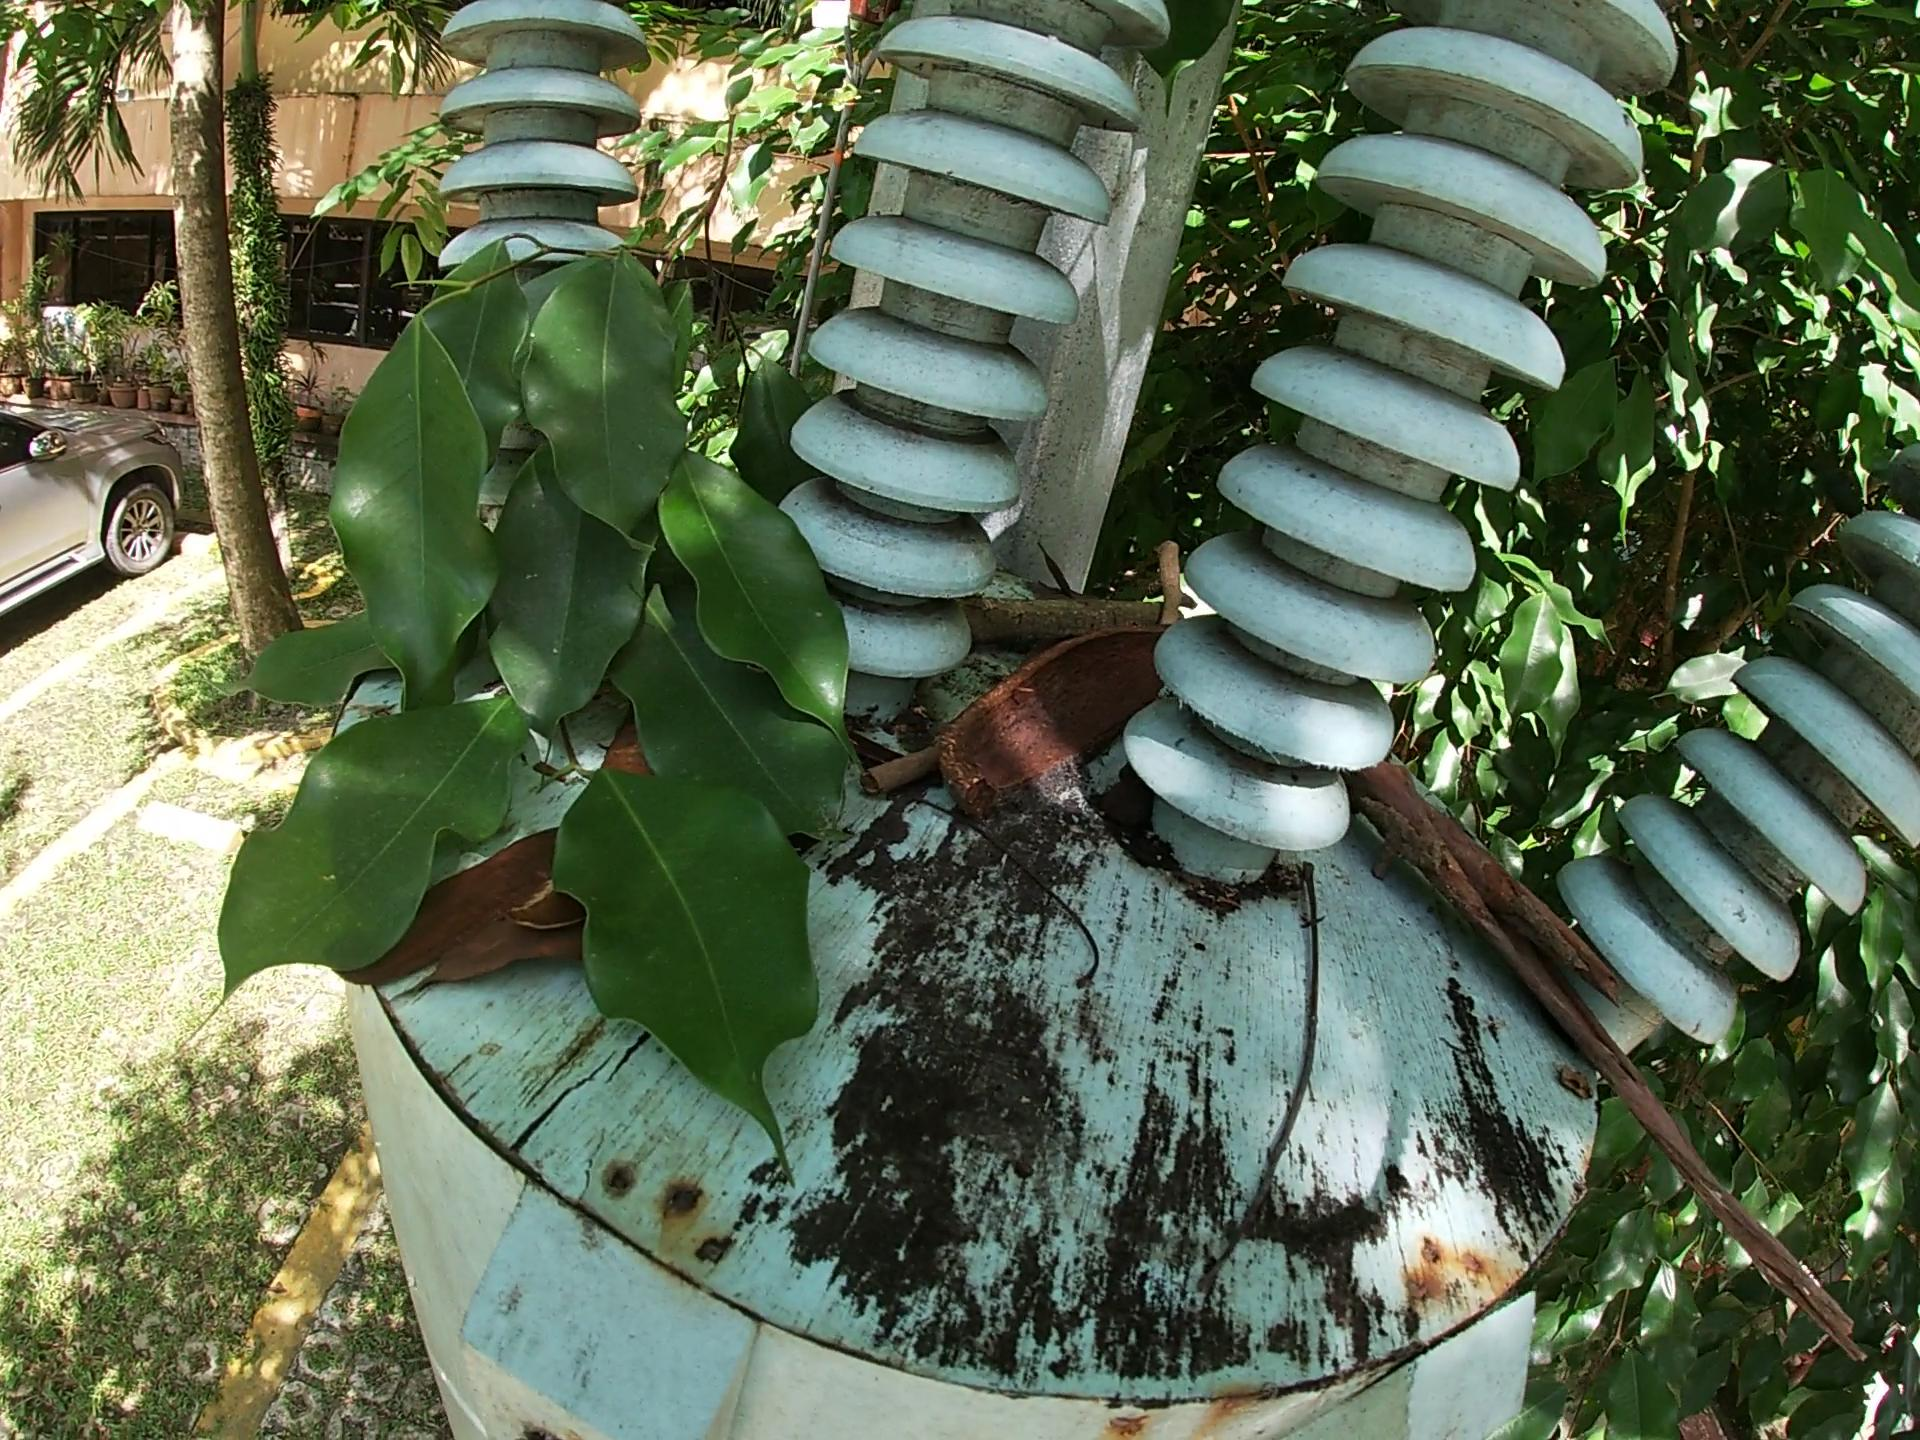branch with leaves: (156, 70, 884, 1218)
leaf: (593, 705, 652, 796)
mahogany fruit: (330, 833, 555, 992), (417, 909, 606, 1003)
tree branch: (1361, 761, 1884, 1355), (1197, 864, 1321, 1327), (901, 808, 1135, 1006), (948, 594, 1166, 656), (842, 758, 931, 802), (1150, 526, 1178, 638)
